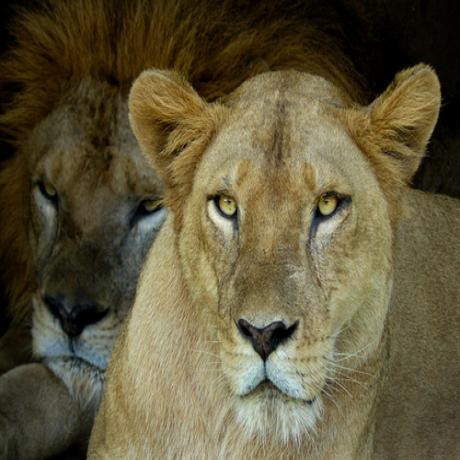Lion: (90, 59, 460, 460), (0, 0, 202, 460)
